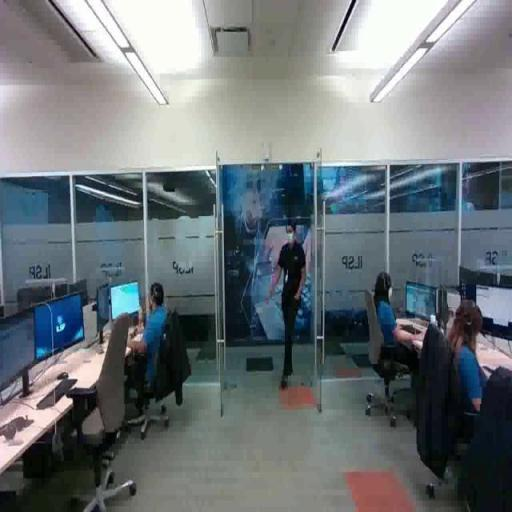person: (268, 225, 308, 390)
